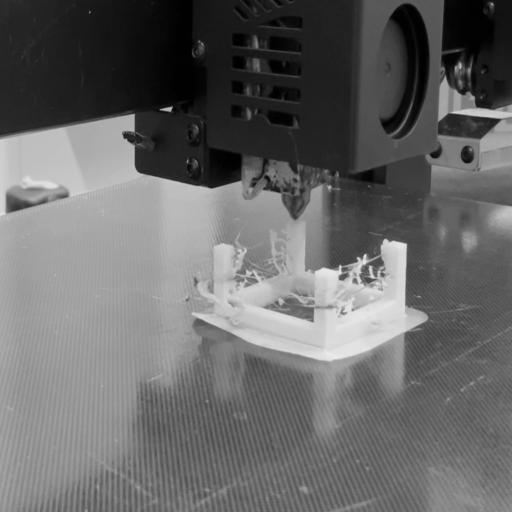spaghetti_and_stringing: (232, 233, 392, 305), (183, 271, 245, 310)
warp: (185, 312, 278, 348), (285, 338, 362, 372)
